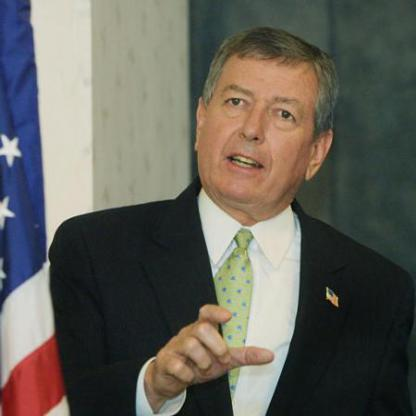face: (201, 32, 322, 215)
